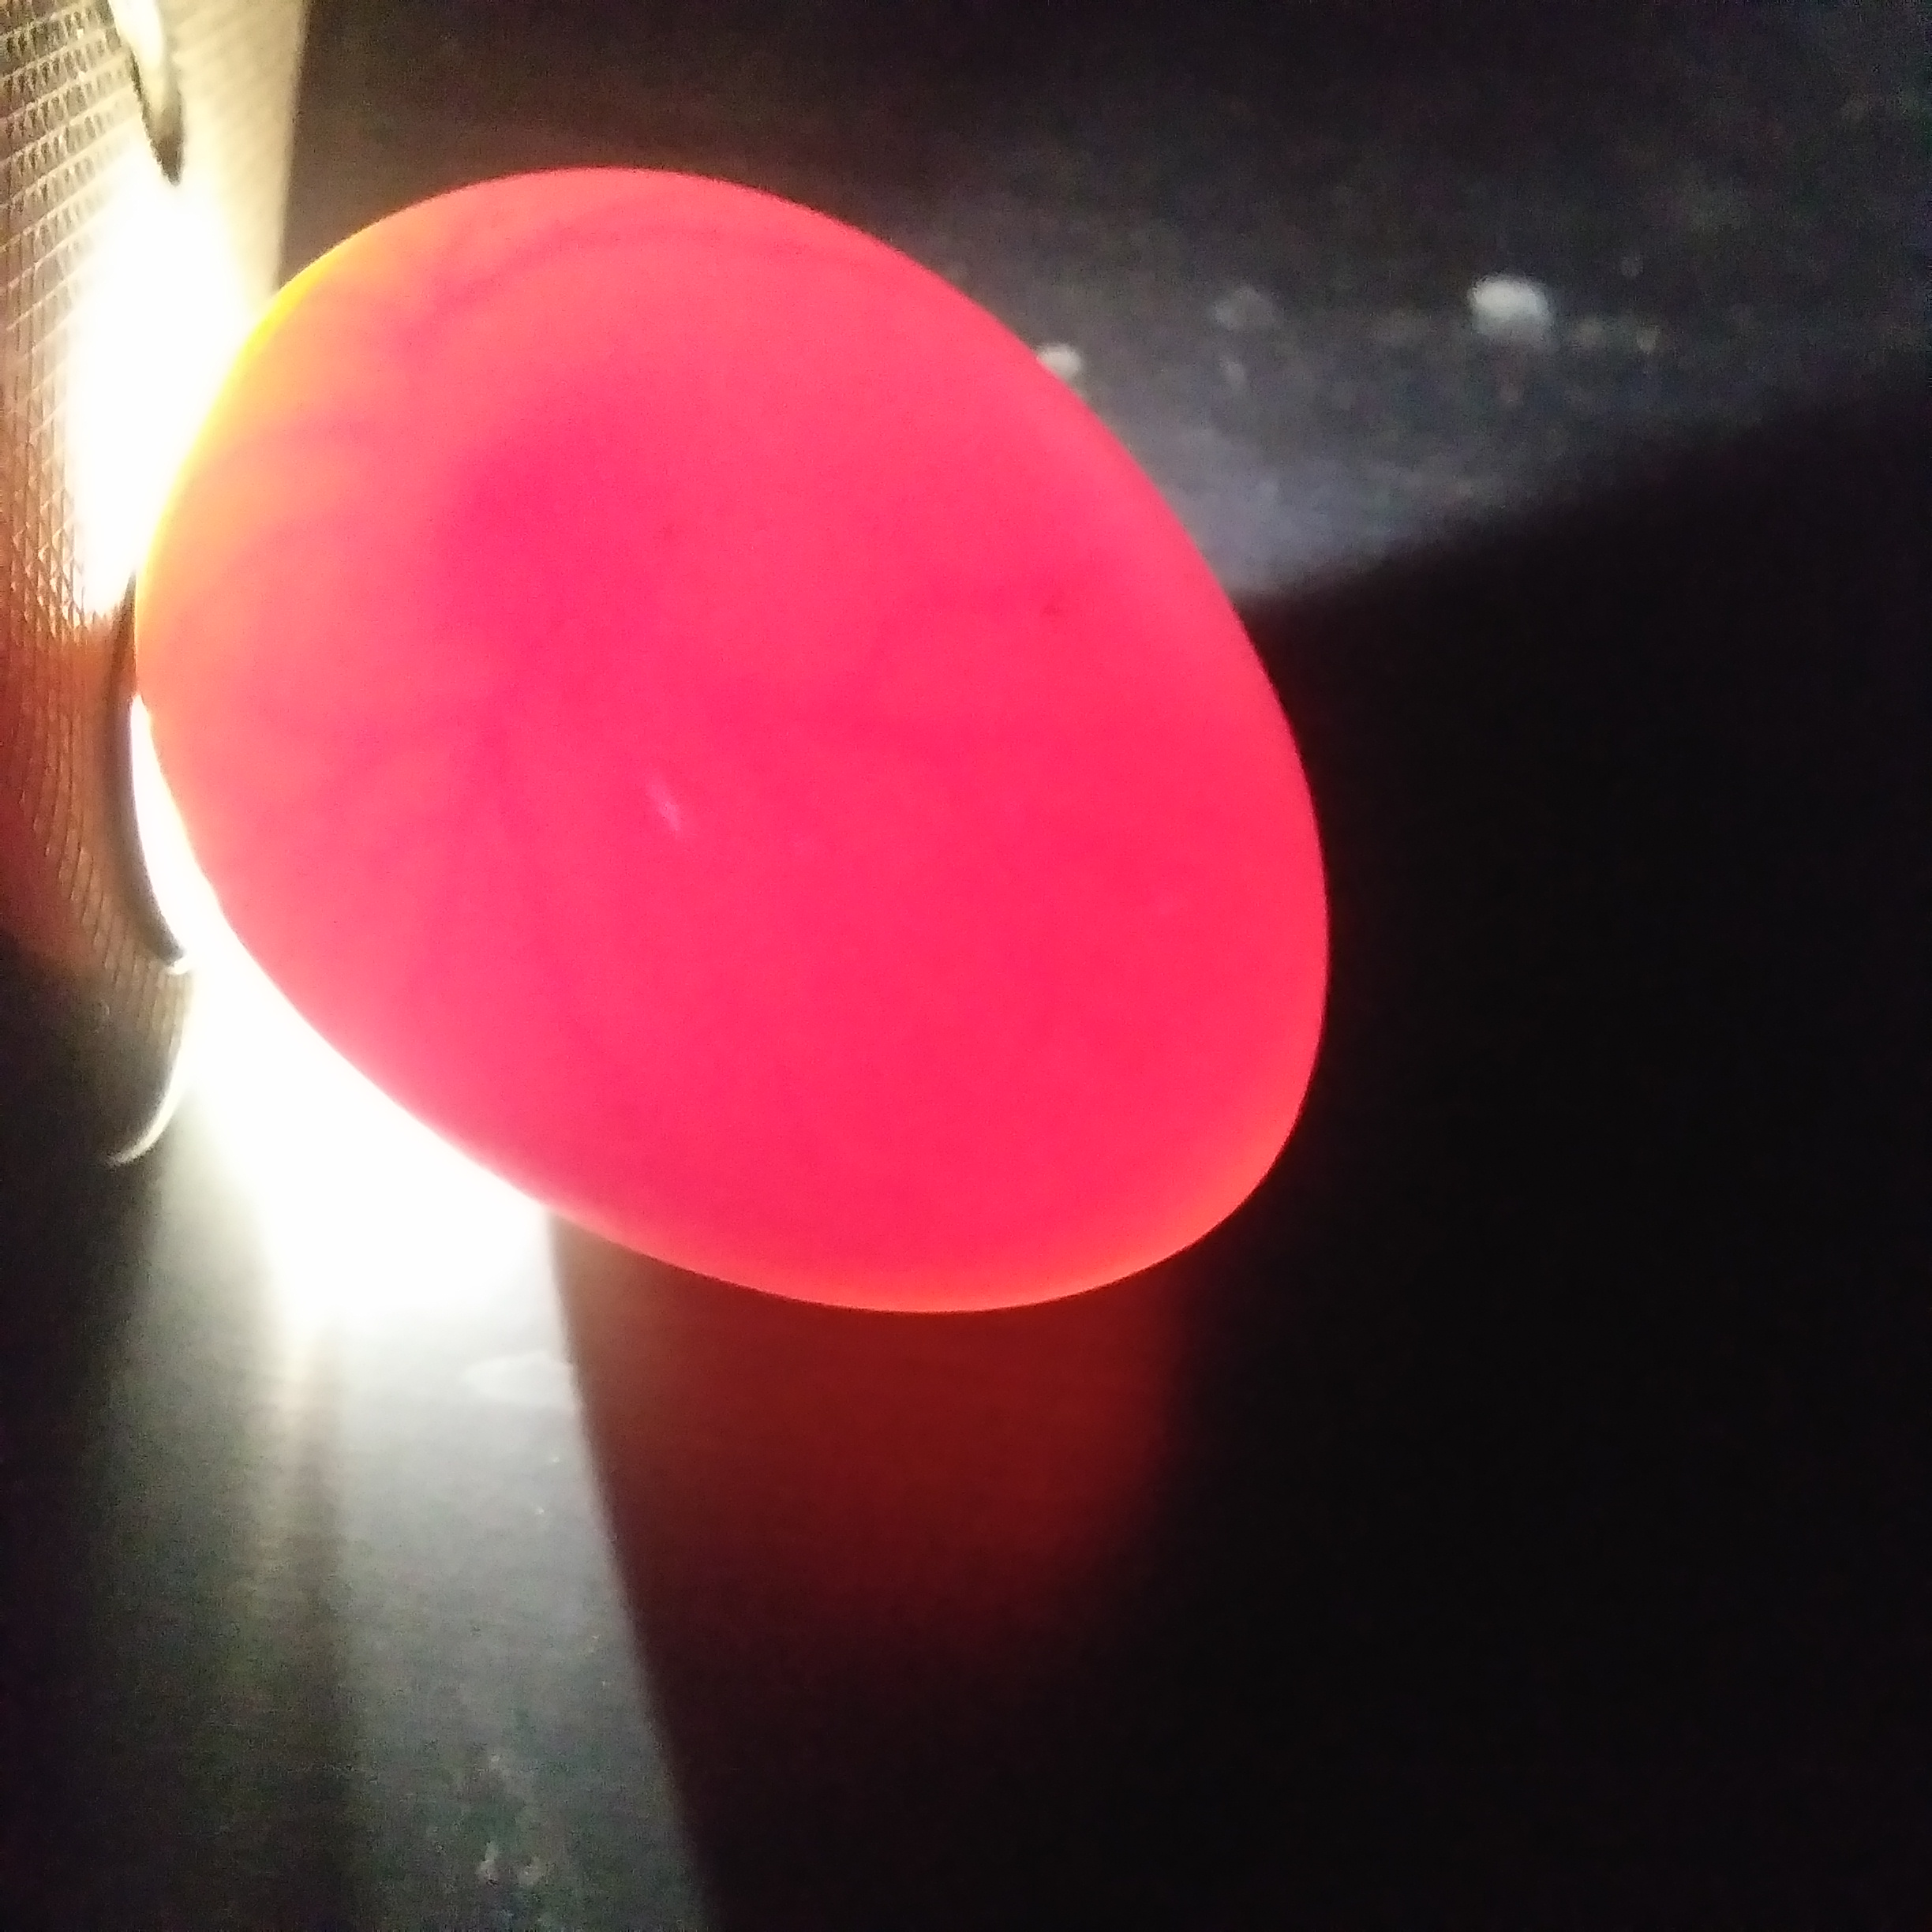bloodcell: (249, 425, 495, 702), (345, 257, 564, 373)
